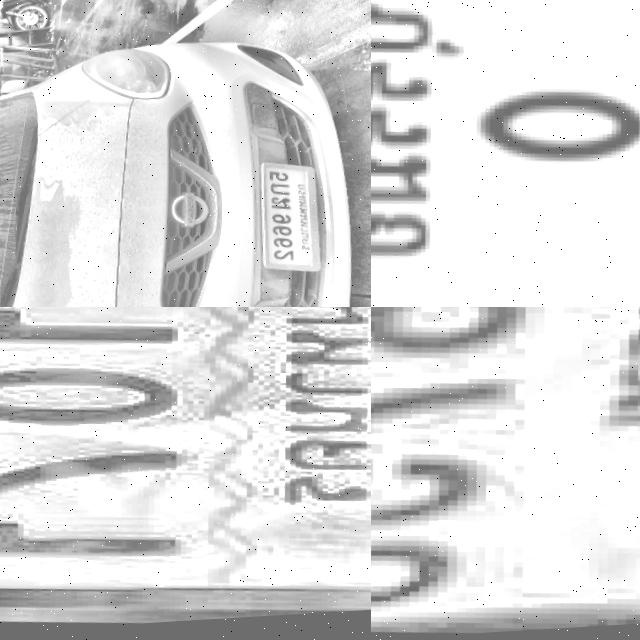license-plate: (0, 307, 371, 640), (371, 307, 640, 640), (371, 0, 640, 307), (246, 164, 320, 283)
